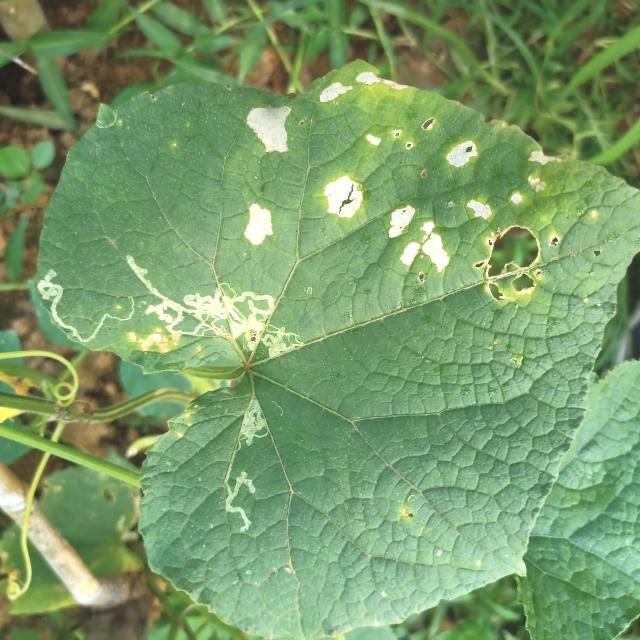disease_cucumber: (313, 70, 567, 317), (225, 195, 288, 253), (238, 102, 293, 158)
